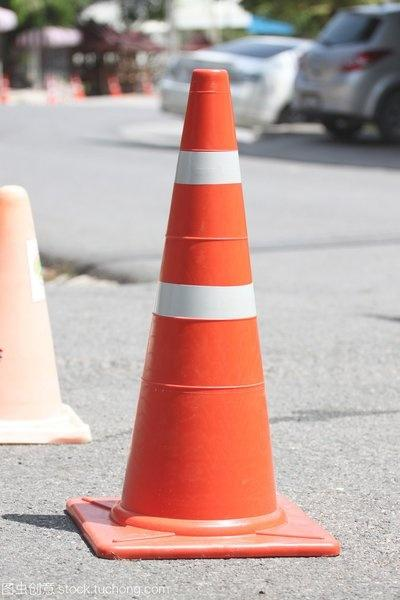cone_barrel: (112, 64, 290, 543)
